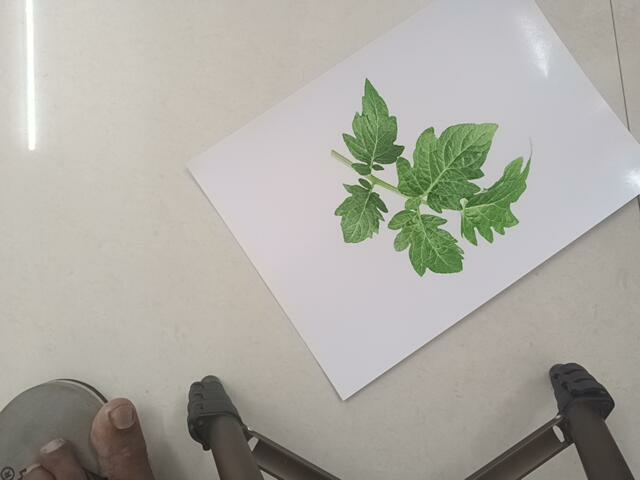Tomamto_Leaf_Healthy: (327, 74, 544, 279)
